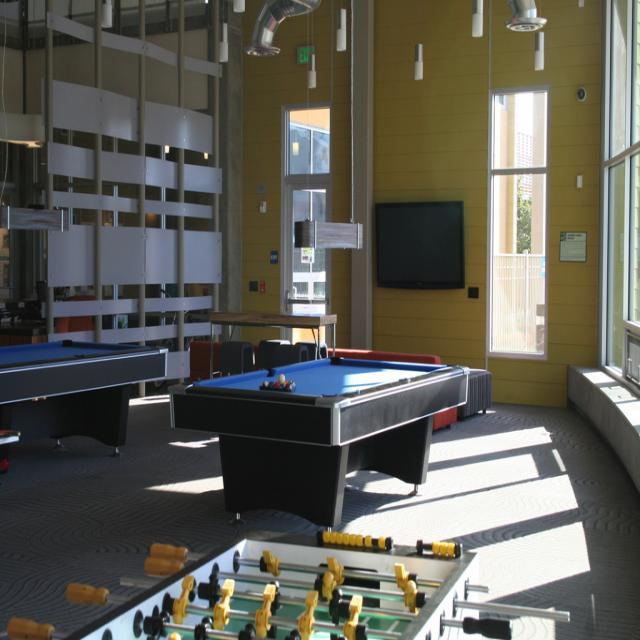Billiard table: (168, 355, 469, 540), (0, 339, 168, 461)
